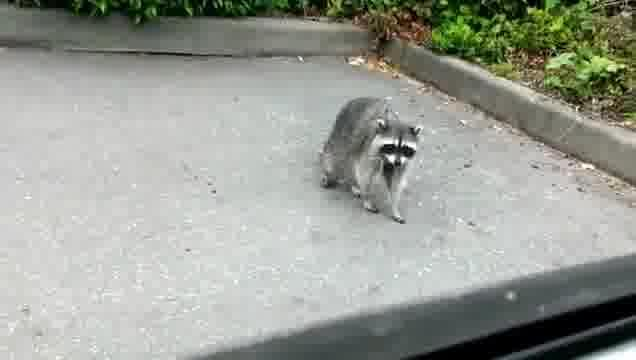raccoon: (318, 94, 425, 228)
